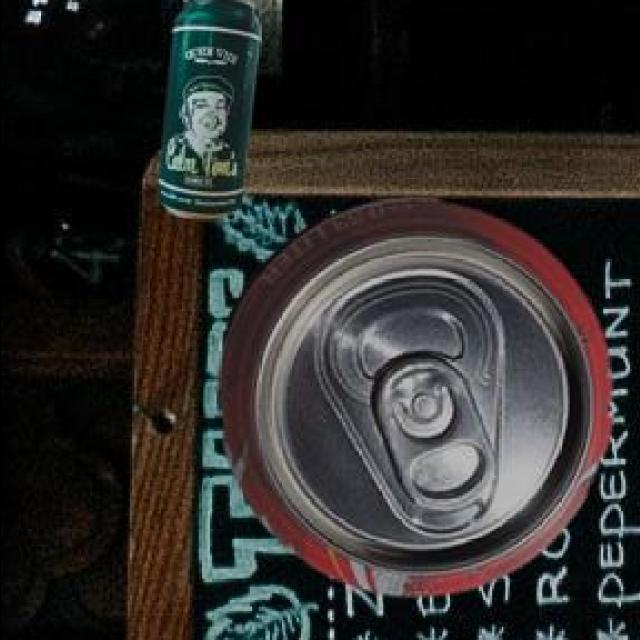logam: (214, 201, 608, 597), (154, 0, 254, 223)
